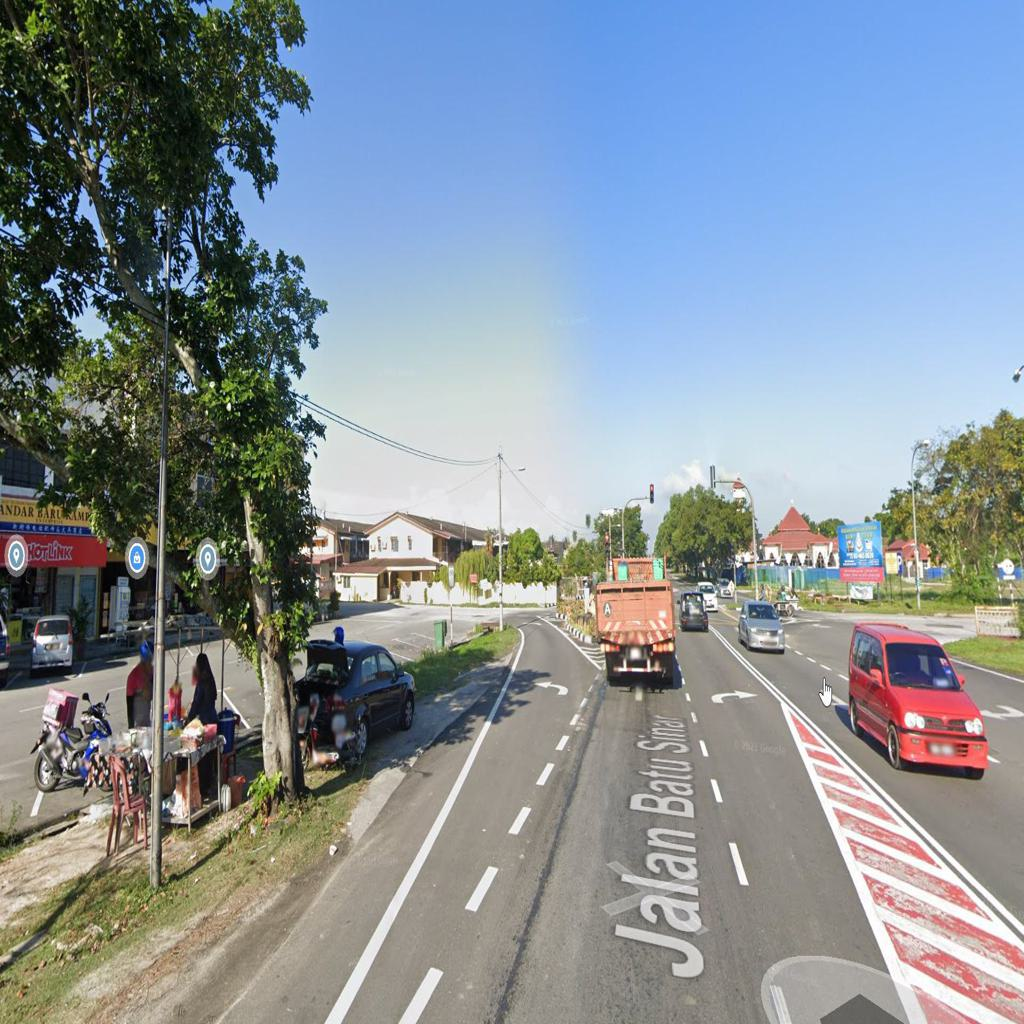Junction: (427, 577, 600, 762)
